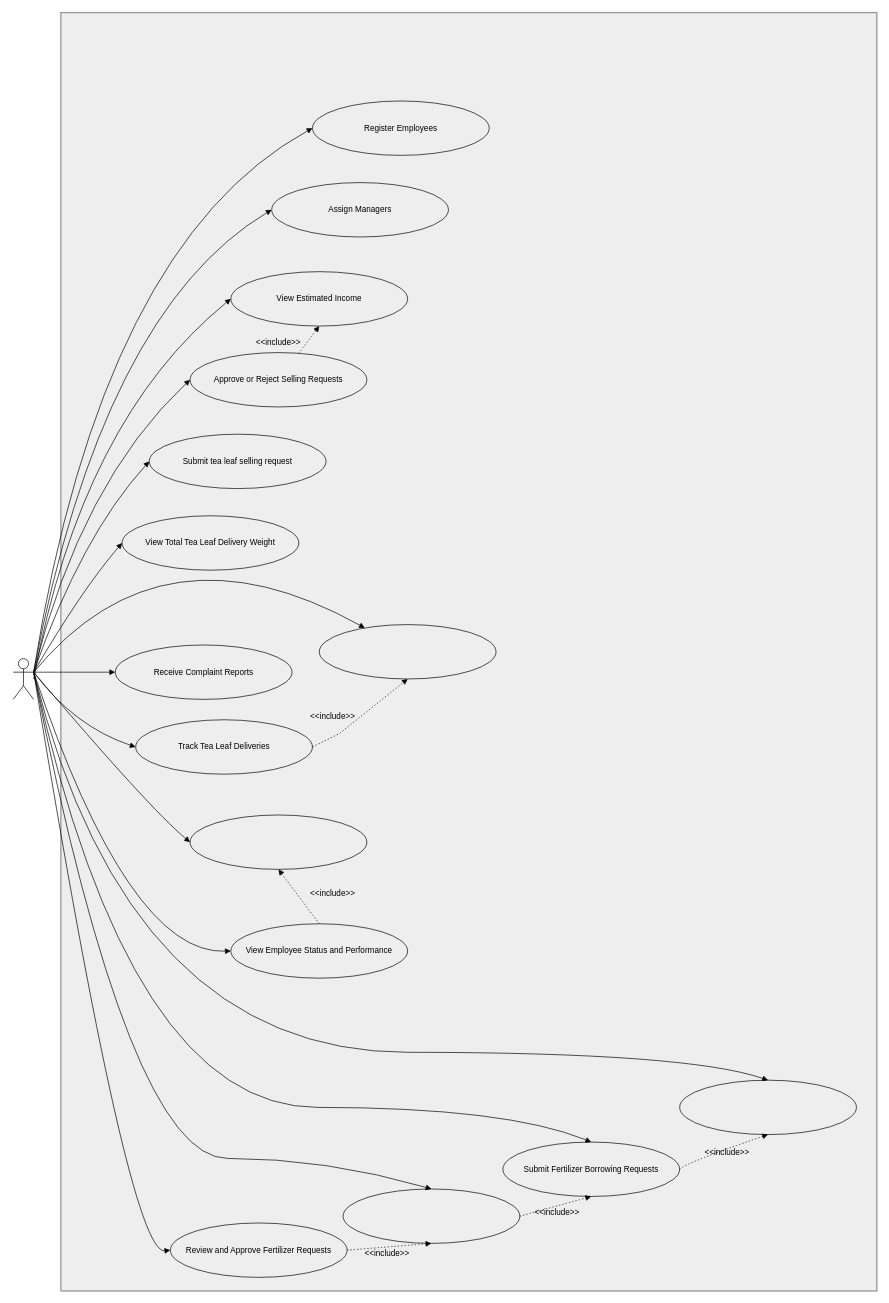
The diagram is 889 pixels wide and 1303 high, and some of its shapes have lost their labels. Here are the shapes that lost their labels. From the top down, the centre of each, then its label:
pixel 407 651: View Collection Reports and Analytics
pixel 23 678: Tea Estate Owner
pixel 278 841: View Employee Performance Analytics
pixel 767 1107: Receive Fertilizer Request Notifications
pixel 431 1215: Choose Fertilizer Source
